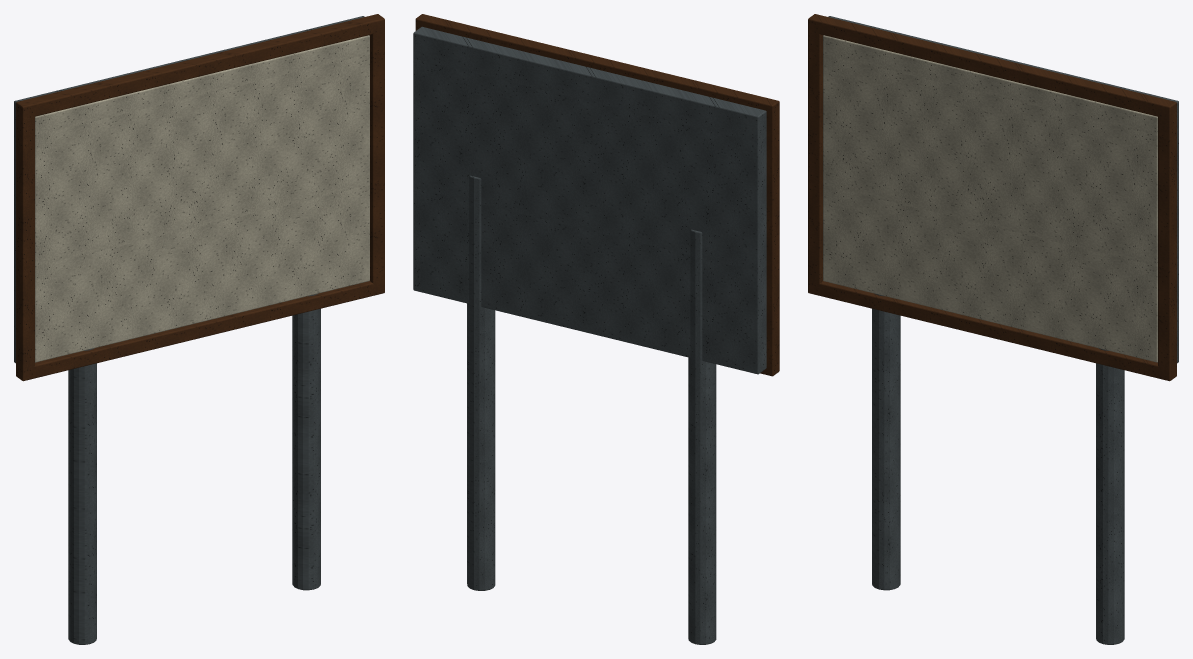
File: PROP-3E7A6A79B8DE_lod0.glb
3 views of the same model, side by side, from view 1: azimuth 30°, elevation 25°; view 2: azimuth 150°, elevation 25°; view 3: azimuth 330°, elevation 25° (orthographic).
Visible parts, largest first — view 1: painted_sign_face.010, frame.010, original_mountain_graphic.010, sign_support.010, panel_back.010; view 2: panel_back.010, sign_support.010, frame.010; view 3: painted_sign_face.010, frame.010, original_mountain_graphic.010, sign_support.010, panel_back.010.
Part boxes in pixels (x1,y1,x2,y2): painted_sign_face.010: (35,35,369,362); frame.010: (16,14,384,381); original_mountain_graphic.010: (53,139,352,321); sign_support.010: (68,294,320,644); panel_back.010: (14,16,364,363); panel_back.010: (413,26,766,374); sign_support.010: (467,175,716,644); frame.010: (415,14,779,376); painted_sign_face.010: (823,35,1157,362); frame.010: (808,14,1176,381); original_mountain_graphic.010: (840,165,1139,321); sign_support.010: (872,294,1124,644); panel_back.010: (828,16,1178,363).
Bounding box in the file's own units: 2.9 × 4.25 × 0.23.
Materials: 3 (3 with a texture image).
